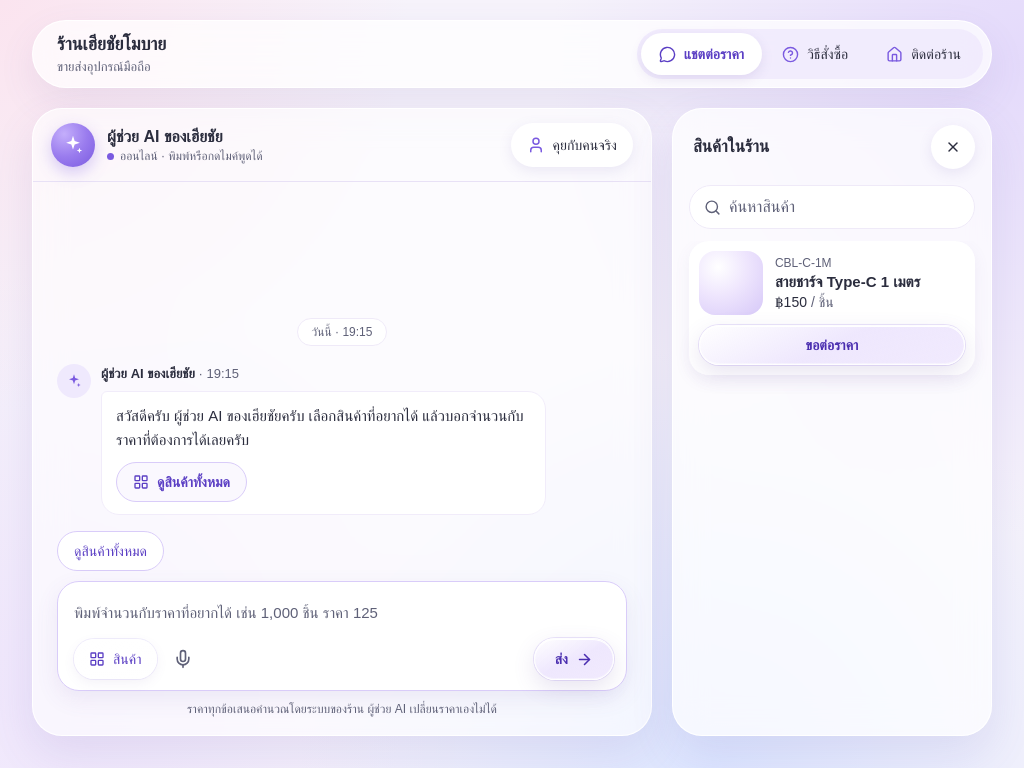
ChatScreen — คอม › เปิด drawer สินค้าไว้ตั้งแต่แรก กดขอต่อราคาแล้วการ์ดสินค้าเข้าแชต
Step 1. Click the button "ขอต่อราคา" → (832, 345), box [699, 325, 965, 365]
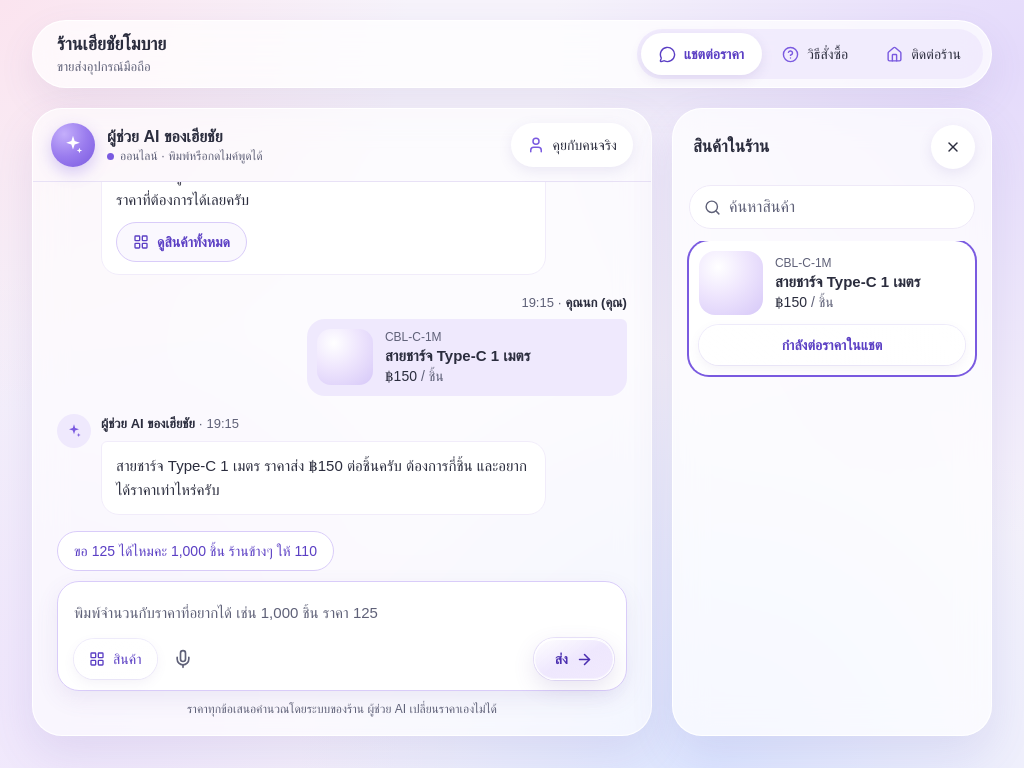
Now the element "สายชาร์จ Type-C 1 เมตร" is shown, box [307, 318, 627, 396]
Now the text "ต้องการกี่ชิ้น" is shown, box [116, 457, 527, 498]
Now the button "กำลังต่อราคาในแชต" is shown, box [699, 325, 965, 365]
